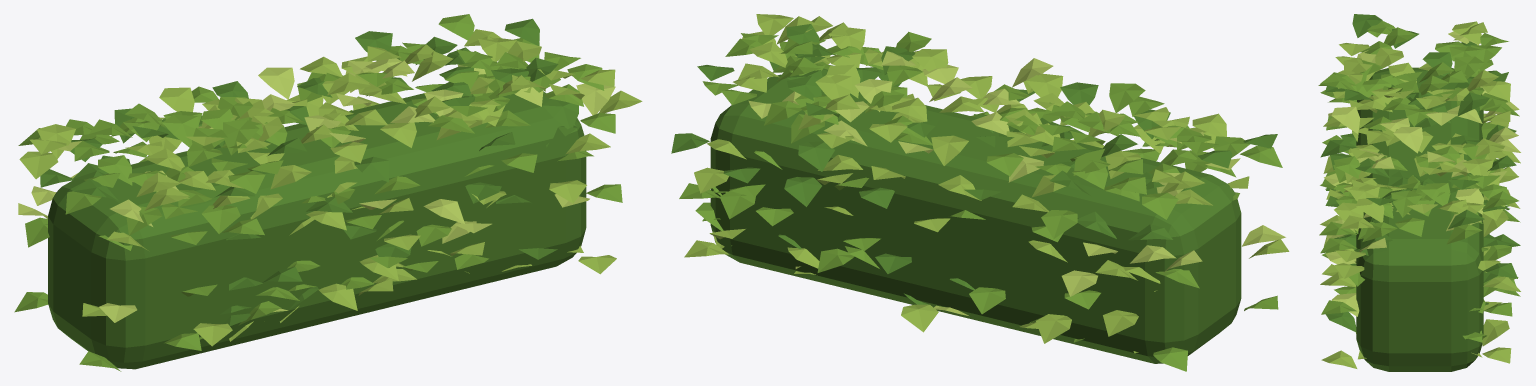
Rendered from hedge.glb.
3 renders of one model, left to right at view 1: azimuth 30°, elevation 25°; view 2: azimuth 150°, elevation 25°; view 3: azimuth 270°, elevation 25°, orthographic. The views are drawn at different scales.
Visible parts, largest first — view 1: hedge; view 2: hedge; view 3: hedge.
Part boxes in pixels (x1,y1,x2,y2): hedge: (14,14,642,371); hedge: (671,14,1289,371); hedge: (1318,14,1520,371).
Bounding box in the file's own units: 2.3 × 0.7994 × 0.878.
